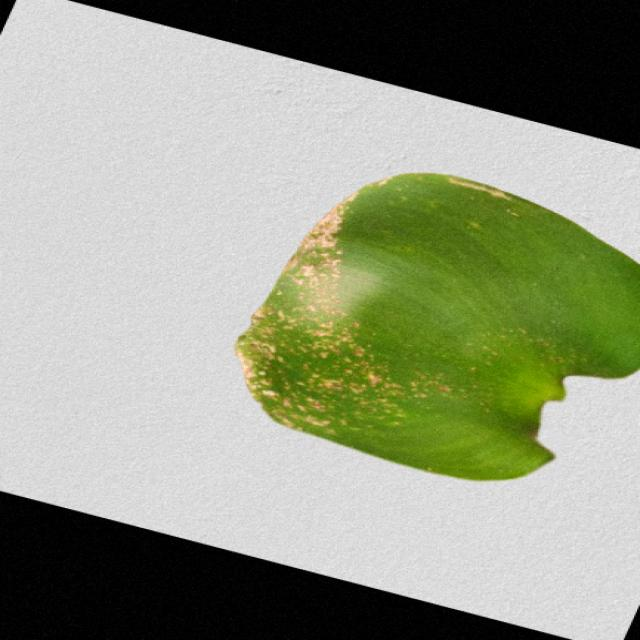daun berpenyakit bercak: (235, 174, 638, 481)
